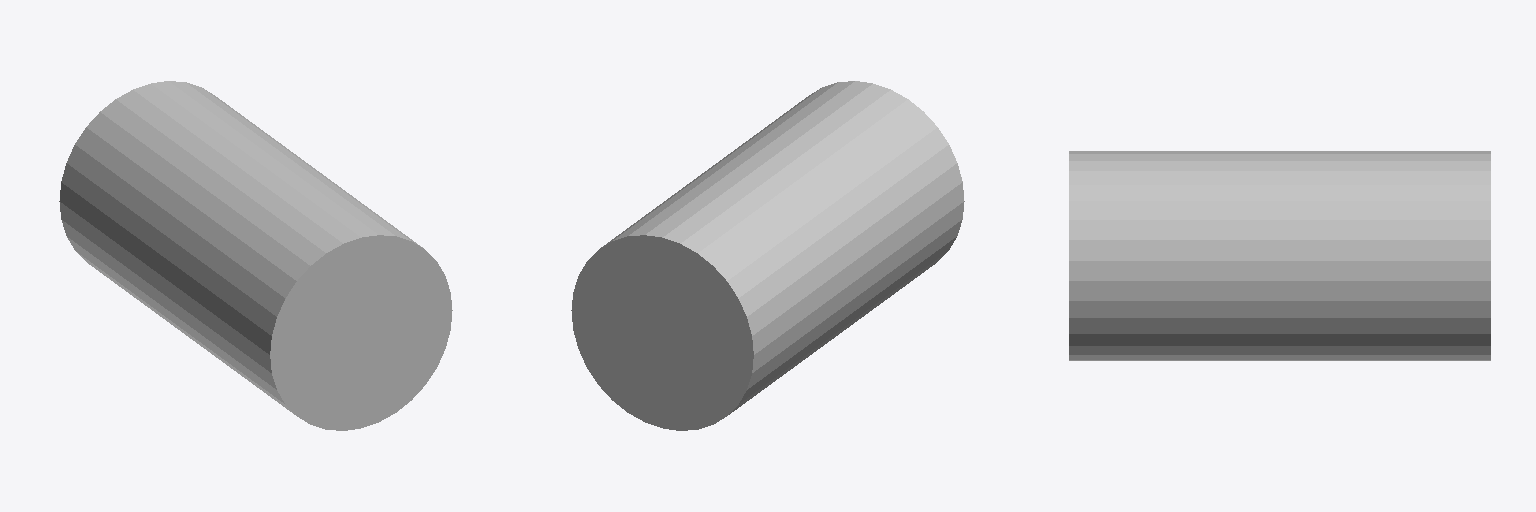
3 renders of one model, left to right at view 1: azimuth 30°, elevation 25°; view 2: azimuth 150°, elevation 25°; view 3: azimuth 270°, elevation 25°, orthographic.
Visible parts, largest first — view 1: peg_cylinder_Cylinder.001; view 2: peg_cylinder_Cylinder.001; view 3: peg_cylinder_Cylinder.001.
Boxes of the visible parts, <box> form: peg_cylinder_Cylinder.001: <box>59,81,452,430</box>; peg_cylinder_Cylinder.001: <box>571,81,964,430</box>; peg_cylinder_Cylinder.001: <box>1069,151,1490,360</box>.
Bounding box in the file's own units: 0.02 × 0.02 × 0.04.